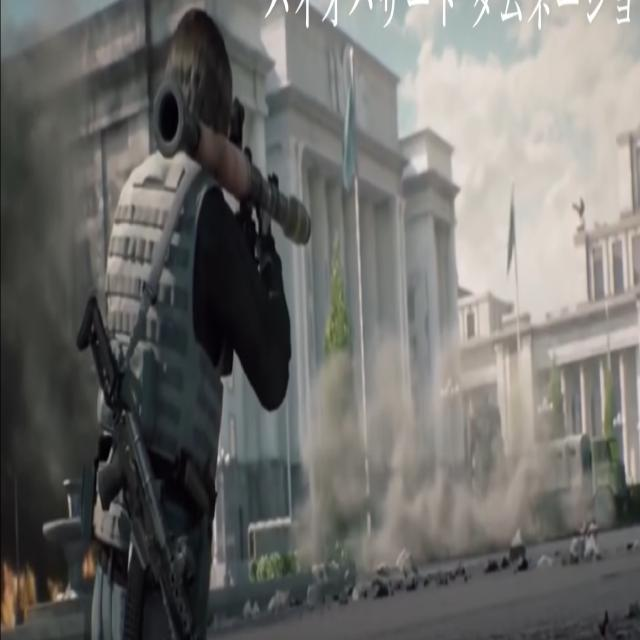bazooka: (137, 49, 328, 277)
